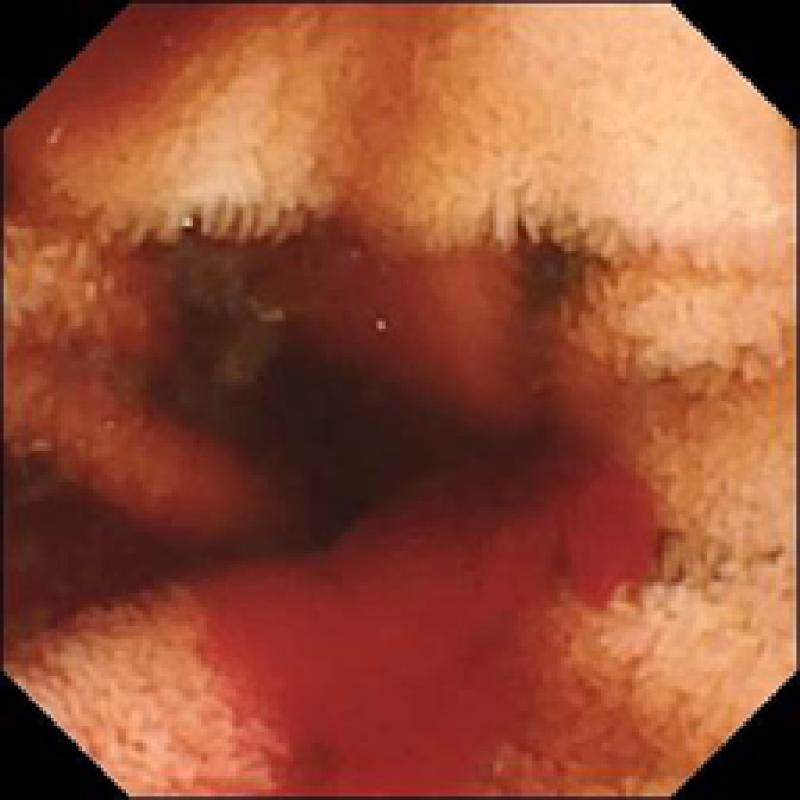bleeding: (193, 439, 653, 800)
